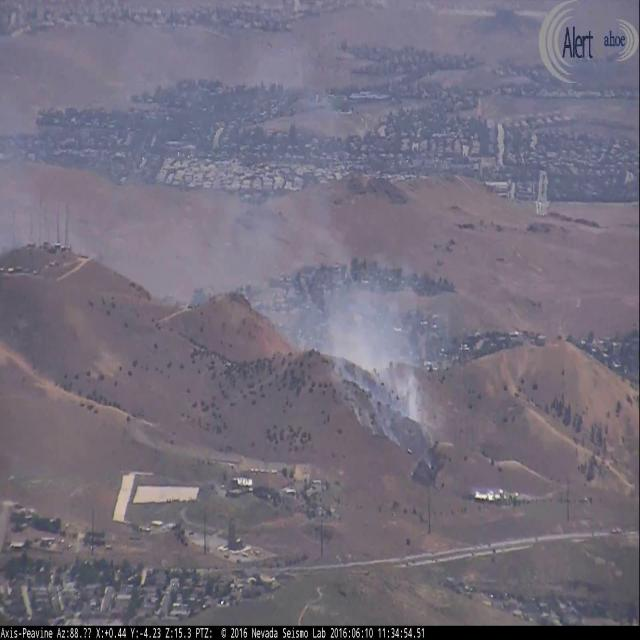smoke: (129, 125, 452, 492)
